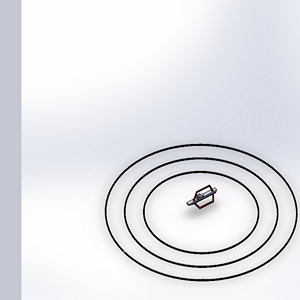circle: (102, 139, 299, 291)
submarine: (182, 179, 225, 216)
